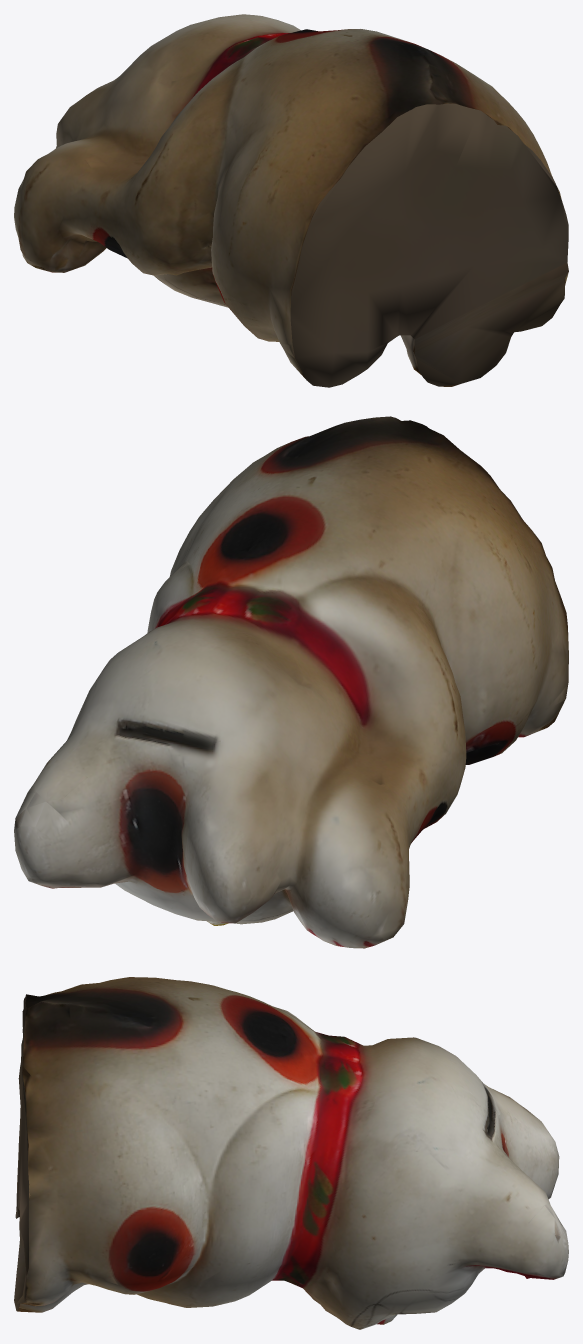
The model's file is 3Dcat_resize.fbx.
3 renders of one model, top to bottom at view 1: azimuth 30°, elevation 25°; view 2: azimuth 150°, elevation 25°; view 3: azimuth 270°, elevation 25°, orthographic. The views are drawn at different scales.
Visible parts, largest first — view 1: Model; view 2: Model; view 3: Model.
Boxes of the visible parts, box(x1,y1,x2,y2) form: Model: box(14, 14, 568, 387); Model: box(14, 416, 568, 948); Model: box(14, 977, 568, 1329).
Bounding box in the file's own units: 0.2576 × 0.2274 × 0.3435.
